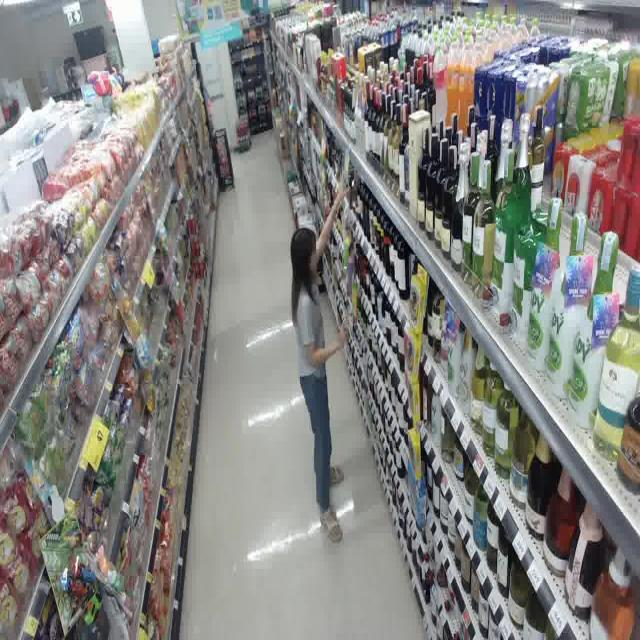pickup: (264, 143, 368, 559)
